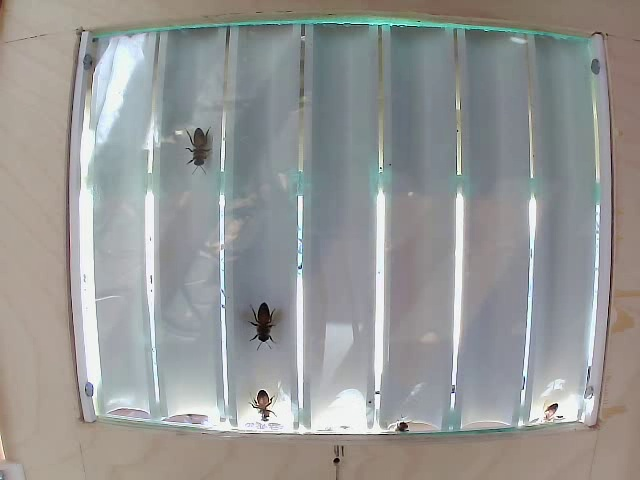bee: (181, 128, 210, 189), (242, 304, 278, 337), (250, 381, 280, 414)
